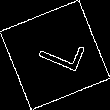L_NW: (25, 31, 85, 79)
